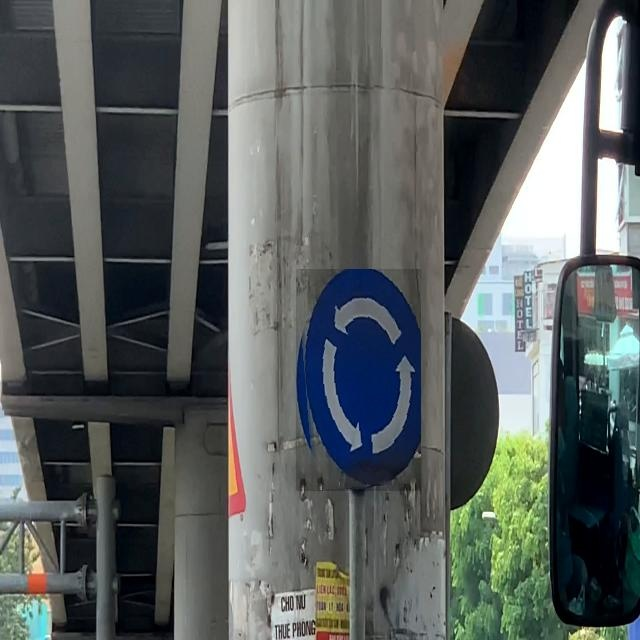bien_chi_dan: (296, 269, 421, 492)
